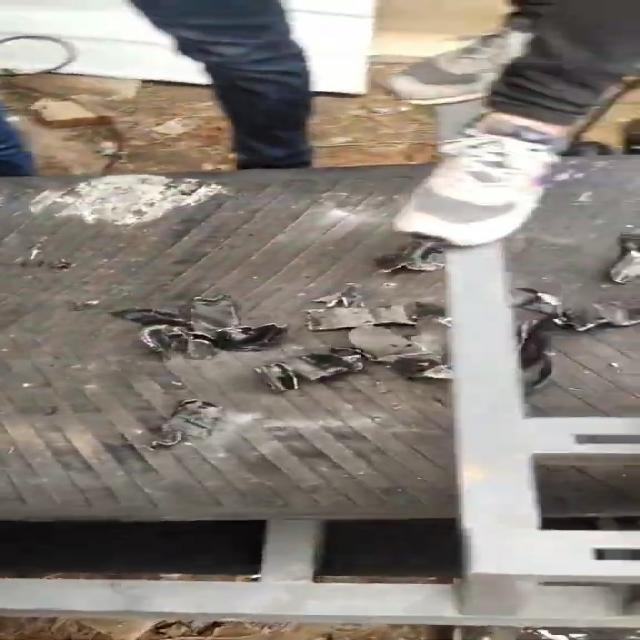Convoyeur: (0, 157, 640, 530)
